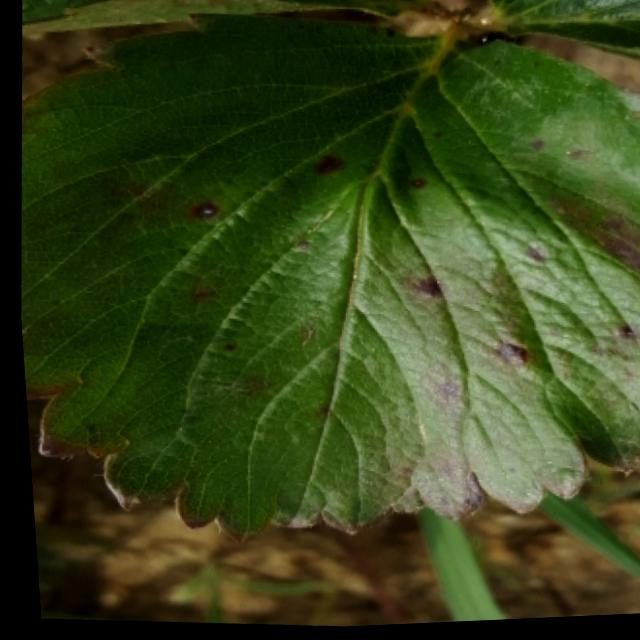Leaf Spot: (16, 12, 640, 542), (21, 0, 431, 34)
